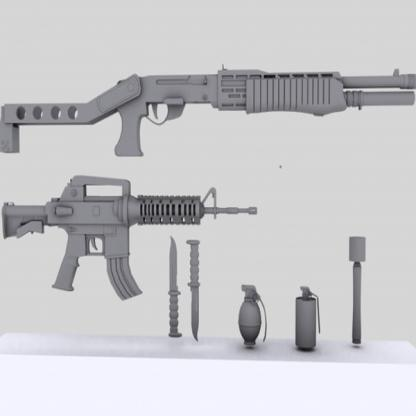Grenade: (348, 233, 366, 348), (237, 283, 268, 349), (294, 283, 322, 353)
Gun: (0, 64, 416, 158), (0, 172, 259, 304)
Knife: (166, 234, 185, 339), (186, 237, 203, 342)
